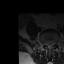CCS_normal: (49, 41, 50, 50)
LFS_normal: (53, 41, 55, 46)
LLS_normal: (50, 41, 53, 48)
RFS_normal: (44, 41, 46, 46)
RLS_normal: (46, 42, 49, 49)
